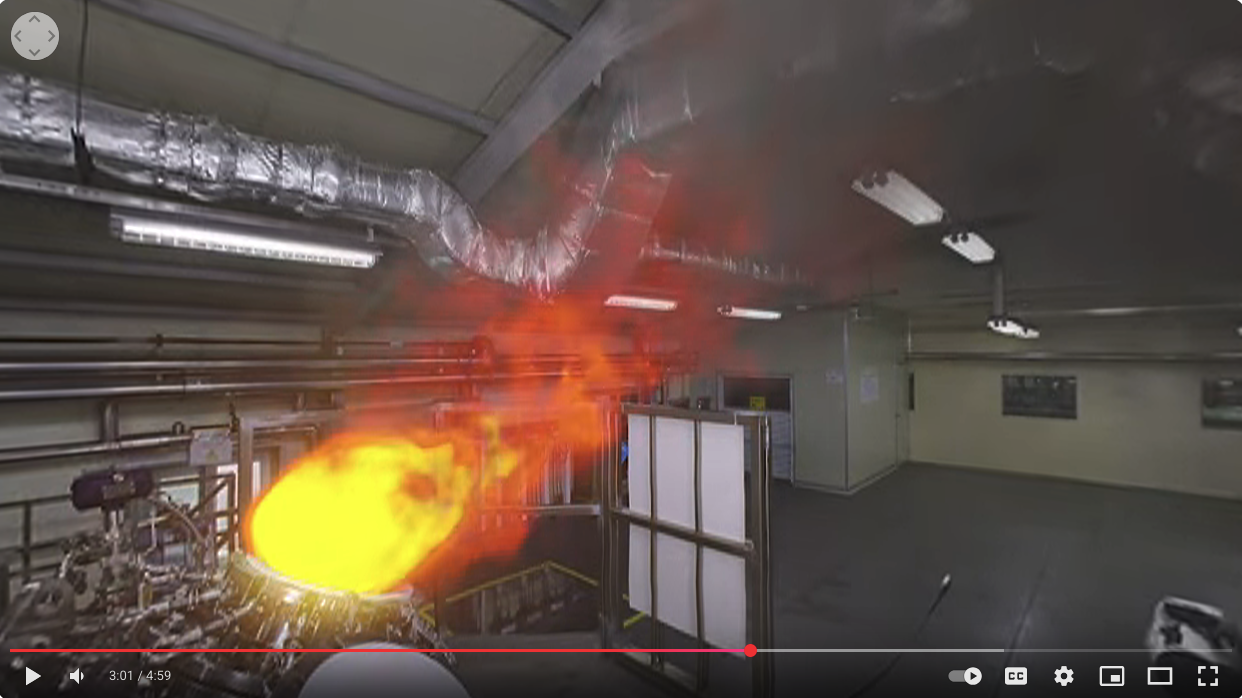fire: (186, 140, 683, 628)
